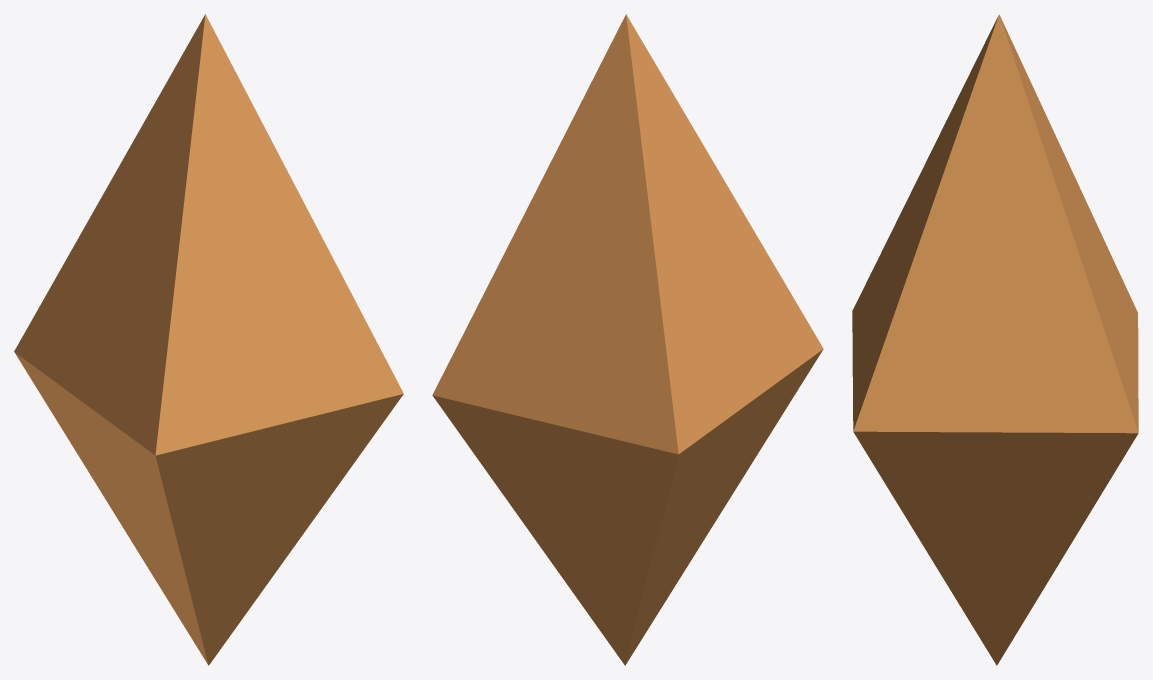
File: marker_diamond.glb
The picture shows the model from 3 angles, left to right: view 1: azimuth 30°, elevation 25°; view 2: azimuth 150°, elevation 25°; view 3: azimuth 270°, elevation 25°; orthographic projection.
Parts seen in each view (by area): view 1: marker_diamond; view 2: marker_diamond; view 3: marker_diamond.
Boxes of the visible parts, bbox=[...] form: marker_diamond: bbox=[14, 14, 403, 665]; marker_diamond: bbox=[432, 14, 823, 665]; marker_diamond: bbox=[852, 14, 1138, 665].
Size of the model in its own units: 2 by 5.01 by 2.
